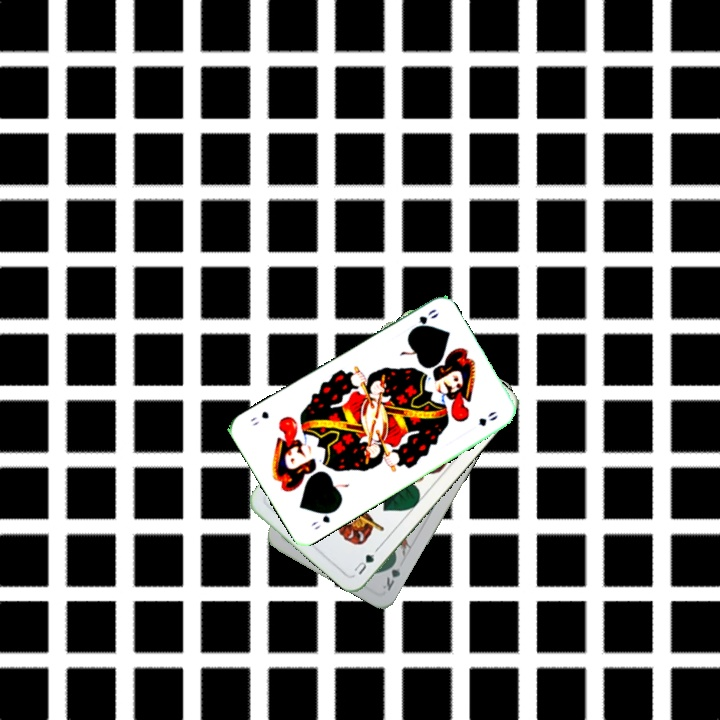GK: (378, 554, 403, 594)
GO: (406, 305, 442, 335), (307, 505, 340, 532)
GU: (350, 544, 381, 577)
